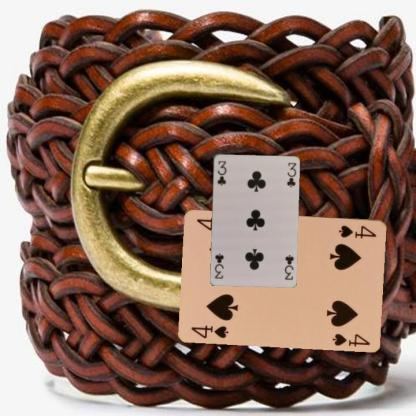3c: (214, 158, 228, 187), (282, 252, 295, 281)
4s: (336, 222, 378, 240), (189, 322, 230, 339)
